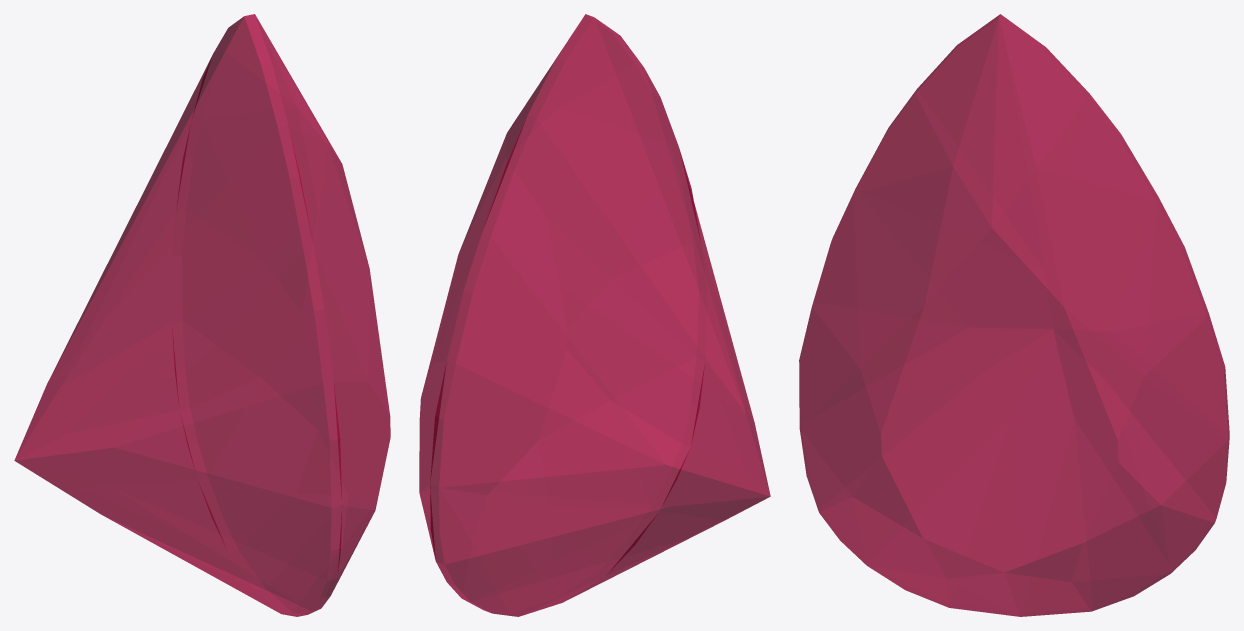
File: pear spinell.glb
The picture shows the model from 3 angles, left to right: view 1: azimuth 30°, elevation 25°; view 2: azimuth 150°, elevation 25°; view 3: azimuth 270°, elevation 25°; orthographic projection.
Parts seen in each view (by area): view 1: Pear (tear); view 2: Pear (tear); view 3: Pear (tear).
Part boxes in pixels (x1,y1,x2,y2): Pear (tear): [14, 14, 390, 616]; Pear (tear): [419, 14, 770, 616]; Pear (tear): [799, 14, 1229, 616].
Bounding box in the file's own units: 1.19 × 2.09 × 1.39.
